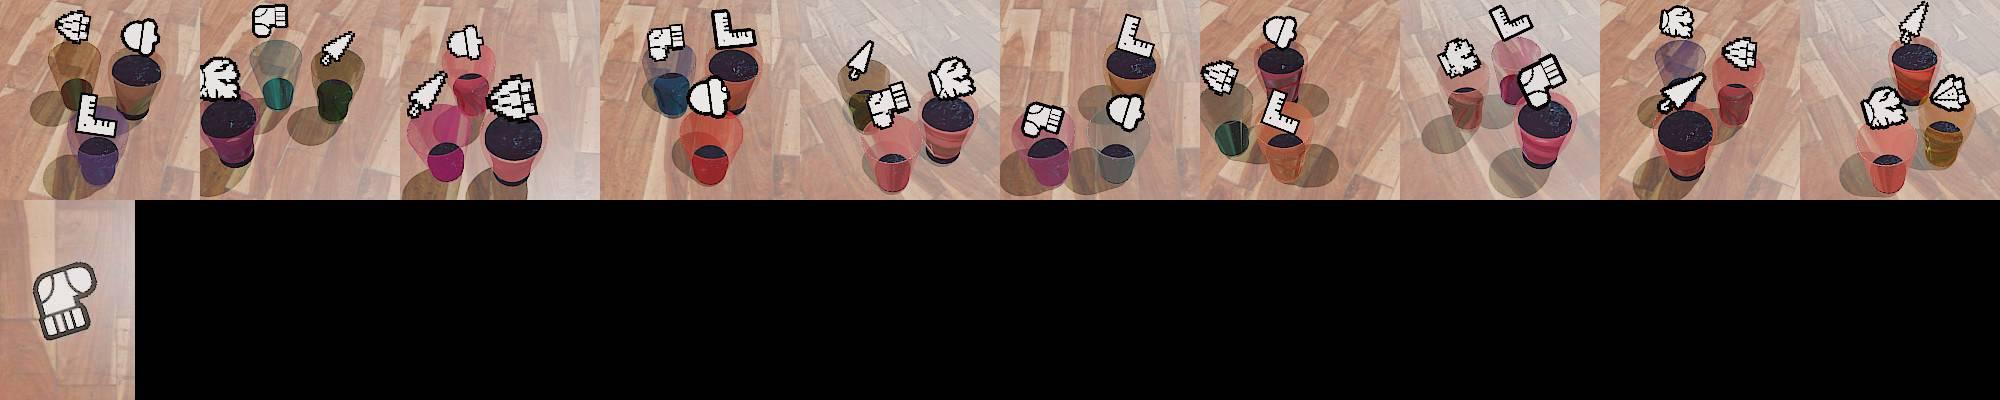icon: (32, 261, 98, 342), (1517, 52, 1567, 107), (486, 73, 539, 120), (863, 79, 911, 128), (1657, 70, 1707, 115), (1258, 87, 1302, 137), (1113, 11, 1157, 61), (1860, 84, 1909, 128), (927, 57, 975, 101), (73, 92, 119, 137), (709, 8, 757, 51), (1435, 36, 1481, 80), (407, 70, 449, 118), (198, 56, 241, 100), (1487, 3, 1535, 42), (1021, 99, 1066, 139), (688, 77, 729, 119), (1105, 93, 1147, 133), (1928, 72, 1970, 112), (647, 23, 686, 62), (445, 23, 485, 60), (120, 18, 160, 55), (1898, 2, 1930, 44), (1261, 14, 1298, 50), (1202, 59, 1238, 96), (55, 9, 92, 44), (251, 4, 289, 38), (1659, 5, 1695, 39), (1720, 37, 1758, 69), (319, 30, 355, 63), (847, 39, 875, 79)
